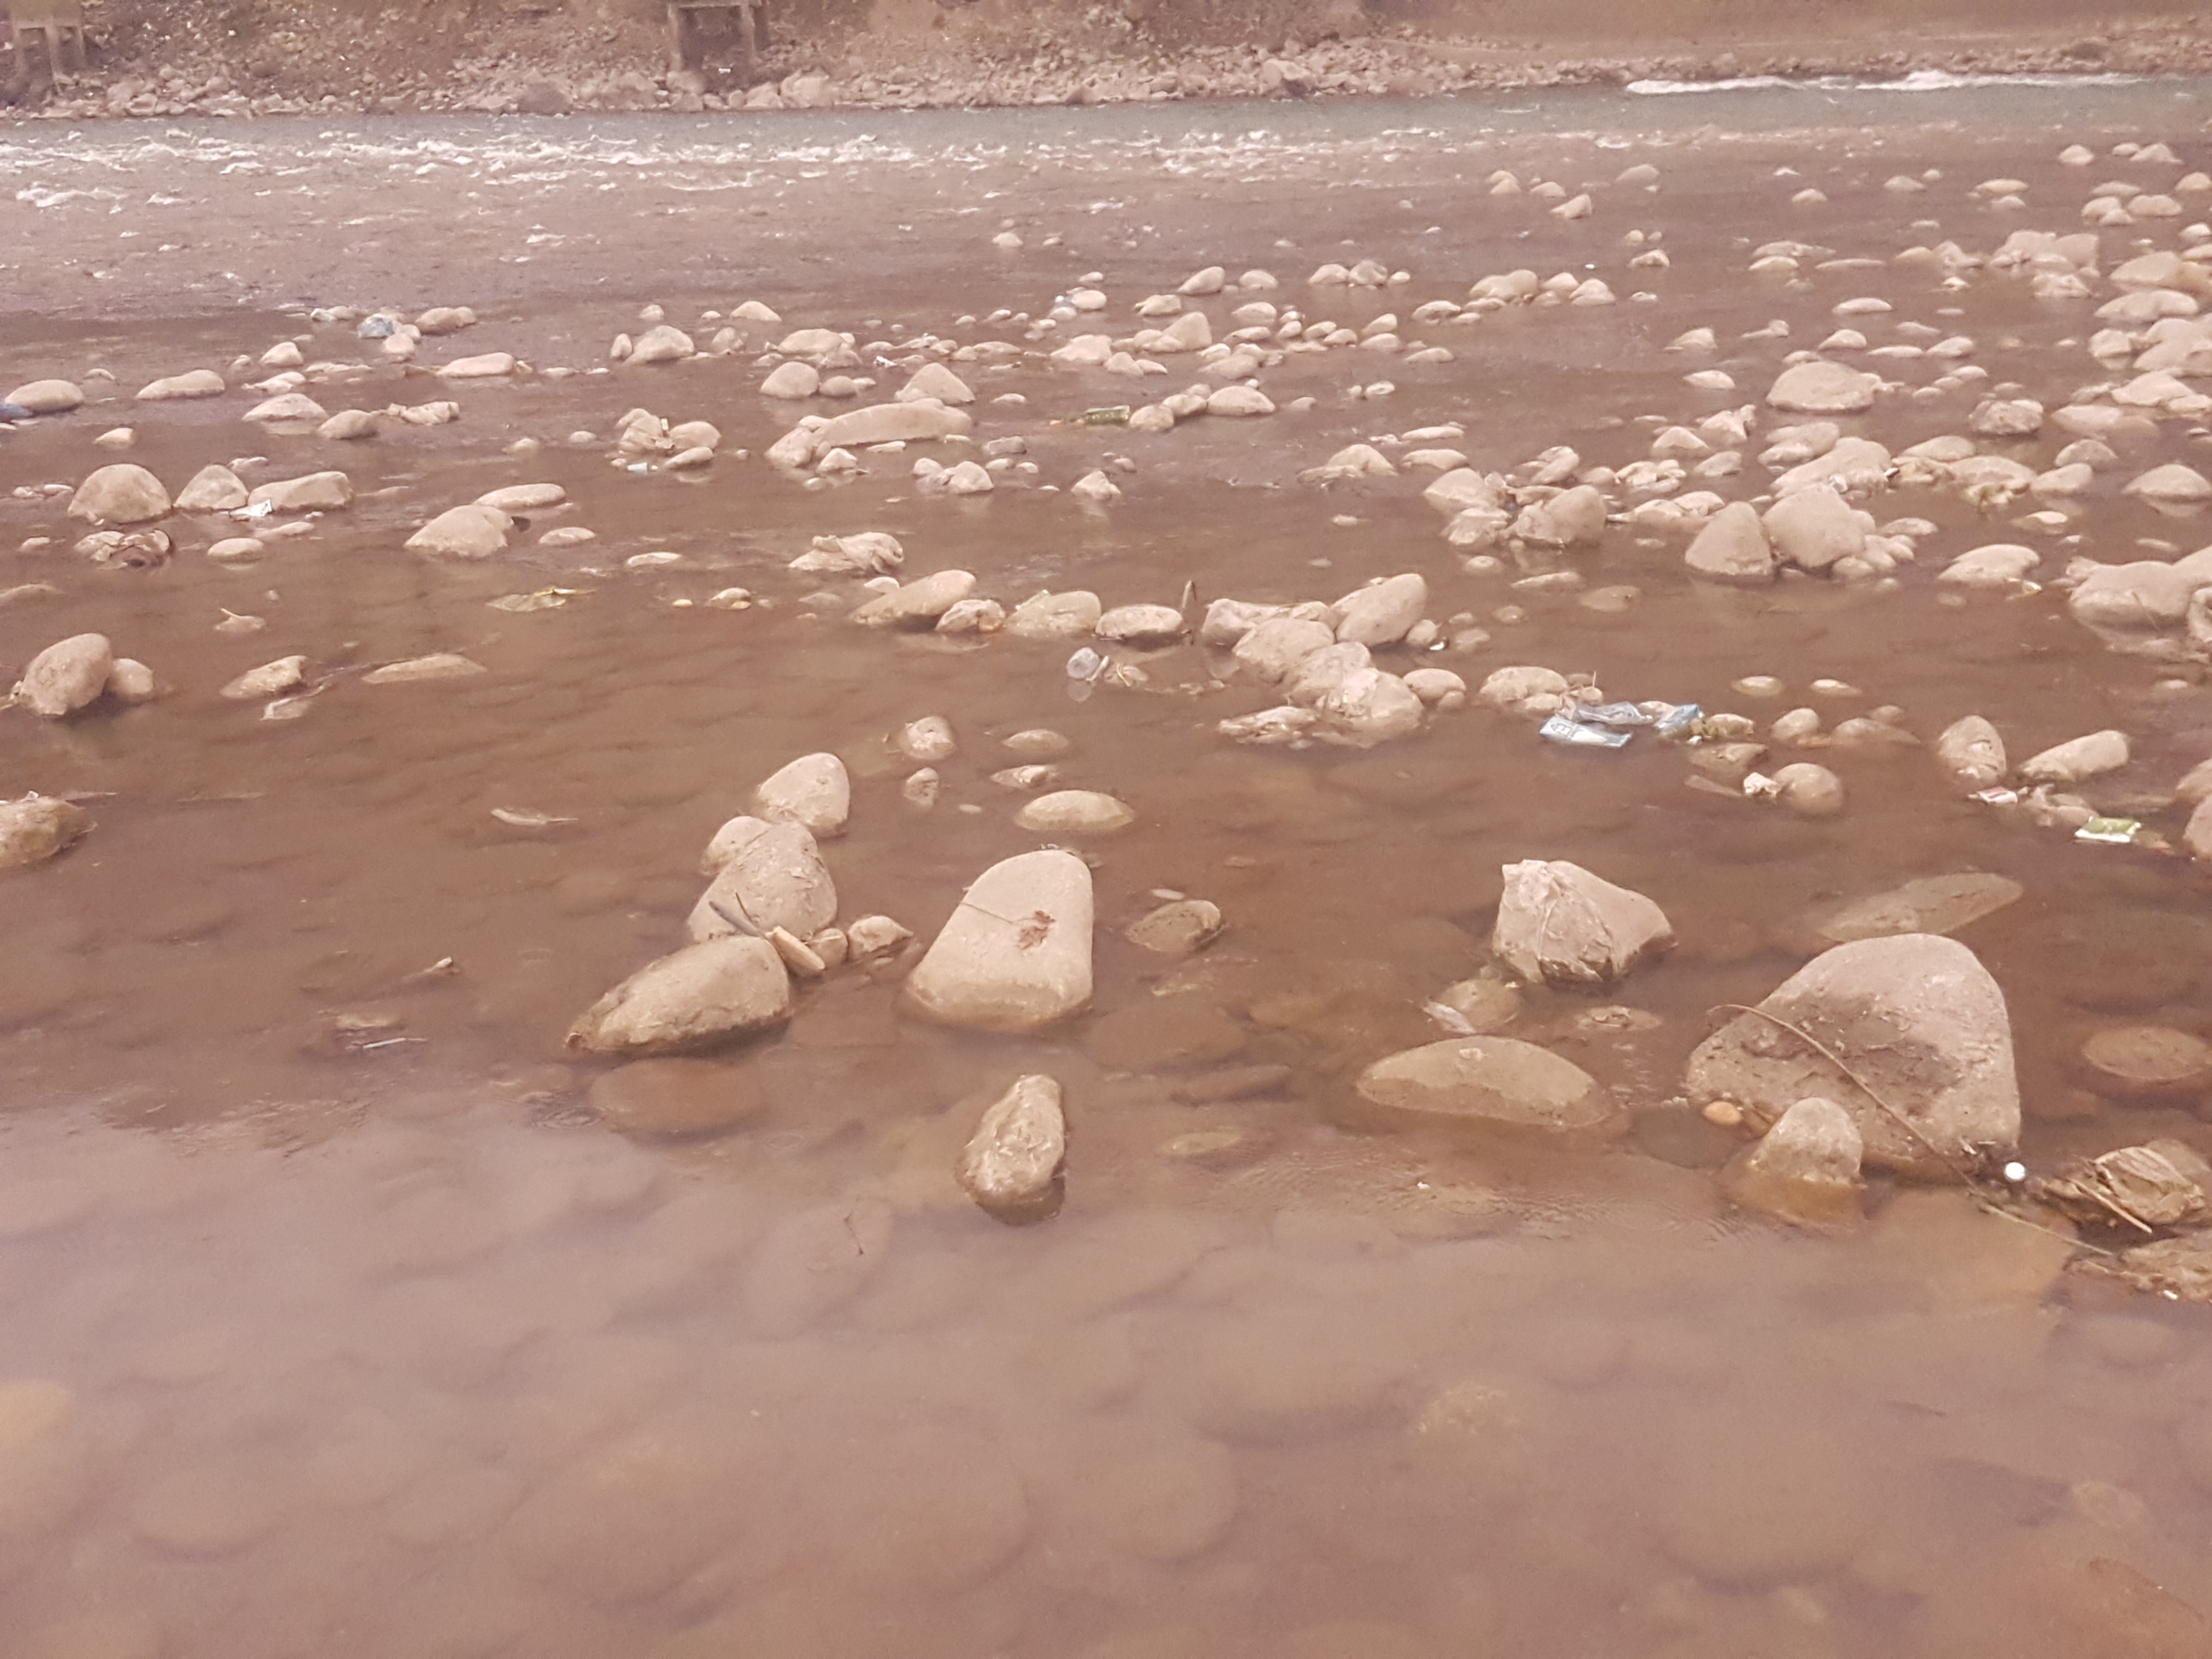Plastic Bottle: (1066, 647, 1099, 680), (627, 462, 655, 472)
